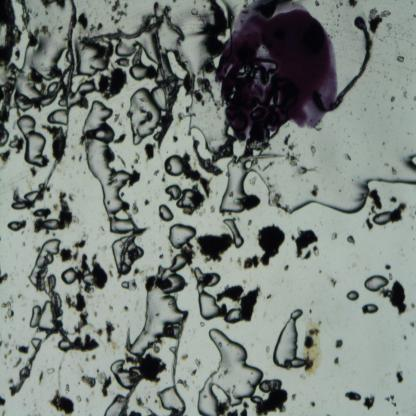Air bubble: (237, 162, 416, 218), (81, 102, 138, 233), (125, 256, 188, 357), (197, 327, 263, 416), (272, 306, 307, 370), (15, 112, 50, 170), (129, 88, 162, 146), (192, 266, 221, 324), (71, 37, 114, 76), (30, 237, 62, 286), (180, 99, 212, 148), (220, 156, 248, 212), (66, 77, 98, 110), (212, 0, 232, 47), (154, 384, 182, 415), (169, 223, 198, 252), (164, 48, 191, 79), (109, 357, 134, 388), (113, 236, 133, 267), (224, 217, 243, 248), (176, 187, 197, 210), (364, 274, 390, 292), (162, 154, 183, 176), (105, 393, 125, 416), (258, 378, 283, 394), (47, 108, 69, 126), (157, 202, 176, 222), (372, 209, 392, 227), (226, 306, 242, 328), (62, 264, 77, 286), (41, 216, 60, 233), (131, 61, 148, 80), (30, 304, 42, 328), (362, 301, 380, 315), (165, 185, 181, 200), (404, 152, 416, 170), (0, 125, 10, 146), (6, 220, 23, 231), (346, 289, 359, 302), (59, 338, 71, 352), (242, 156, 254, 170), (209, 56, 221, 70), (225, 124, 235, 138), (117, 57, 130, 67), (252, 395, 262, 406), (31, 338, 41, 347)
Background material: (242, 223, 285, 271), (178, 68, 218, 111), (42, 282, 70, 342), (172, 316, 188, 413), (179, 152, 214, 193), (0, 1, 22, 66), (79, 254, 110, 298), (302, 316, 324, 376), (235, 284, 265, 325), (64, 288, 90, 334), (380, 279, 412, 316), (98, 66, 131, 100), (282, 133, 308, 175), (154, 106, 180, 148), (129, 353, 164, 383), (290, 228, 320, 262), (40, 124, 70, 158), (56, 188, 80, 229), (60, 231, 87, 264), (0, 67, 16, 122), (195, 142, 223, 172), (261, 388, 289, 416), (77, 11, 108, 34), (215, 285, 247, 305), (368, 5, 390, 32), (143, 275, 174, 293), (76, 333, 99, 357), (48, 394, 74, 415), (265, 184, 285, 211), (240, 190, 263, 212), (109, 2, 128, 26), (252, 151, 281, 166), (97, 372, 113, 398), (392, 200, 407, 227), (20, 7, 35, 32), (11, 190, 28, 210), (105, 318, 116, 347), (295, 164, 319, 177), (25, 30, 41, 48), (122, 276, 138, 294), (369, 188, 382, 210), (142, 142, 156, 162), (0, 335, 13, 356), (40, 0, 67, 10), (81, 372, 97, 388), (126, 168, 141, 185), (1, 299, 15, 317), (344, 389, 364, 401), (76, 95, 92, 110), (32, 207, 52, 218), (12, 137, 24, 155), (362, 395, 376, 410), (111, 133, 126, 147), (15, 342, 30, 356), (0, 148, 13, 164), (345, 233, 357, 249), (189, 4, 200, 21), (311, 180, 320, 200), (131, 198, 141, 216), (383, 394, 397, 406), (248, 174, 259, 188), (36, 218, 46, 233), (12, 358, 24, 370), (346, 0, 360, 10), (331, 227, 341, 241), (28, 164, 38, 178), (396, 367, 404, 384), (1, 266, 9, 283), (119, 153, 127, 169), (334, 337, 345, 348), (342, 150, 352, 162), (332, 354, 342, 366), (385, 196, 398, 205), (379, 262, 393, 270), (0, 394, 7, 410), (330, 276, 338, 289), (114, 115, 122, 128), (46, 365, 56, 375), (151, 168, 161, 178), (39, 370, 44, 388), (396, 54, 405, 64), (401, 90, 410, 99), (290, 392, 298, 402), (41, 26, 49, 36), (63, 383, 70, 394), (142, 199, 151, 207), (76, 394, 84, 403), (308, 145, 315, 155), (236, 256, 242, 266), (210, 204, 216, 214), (389, 93, 396, 101), (308, 401, 316, 408), (56, 24, 63, 32), (160, 176, 166, 184), (284, 264, 290, 272), (393, 165, 397, 176), (173, 136, 178, 143)
Cellulose filter fibre: (330, 16, 371, 111), (82, 12, 160, 44), (16, 63, 70, 106), (11, 335, 50, 393), (14, 161, 60, 205), (151, 26, 172, 112), (67, 2, 78, 97), (117, 379, 140, 416), (163, 6, 184, 43)
Microfibre: (196, 233, 233, 260)
Pen: (218, 0, 342, 152)
